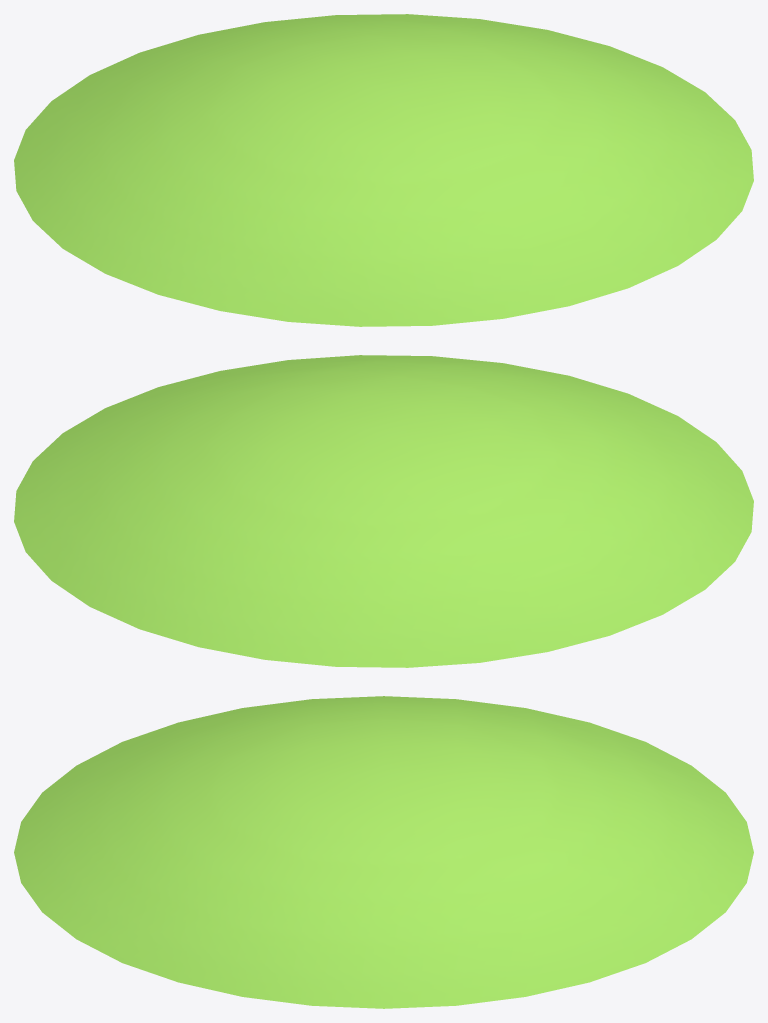
The model's file is Ground_02.glb.
The picture shows the model from 3 angles, top to bottom: view 1: azimuth 30°, elevation 25°; view 2: azimuth 150°, elevation 25°; view 3: azimuth 270°, elevation 25°; orthographic projection.
Parts seen in each view (by area): view 1: Ground_02; view 2: Ground_02; view 3: Ground_02.
Boxes of the visible parts, bbox=[...] form: Ground_02: bbox=[14, 14, 753, 326]; Ground_02: bbox=[14, 355, 753, 667]; Ground_02: bbox=[14, 696, 753, 1008].
Size of the model in its own units: 24.15 by 2.8 by 24.15.
1 material, 1 textured.
